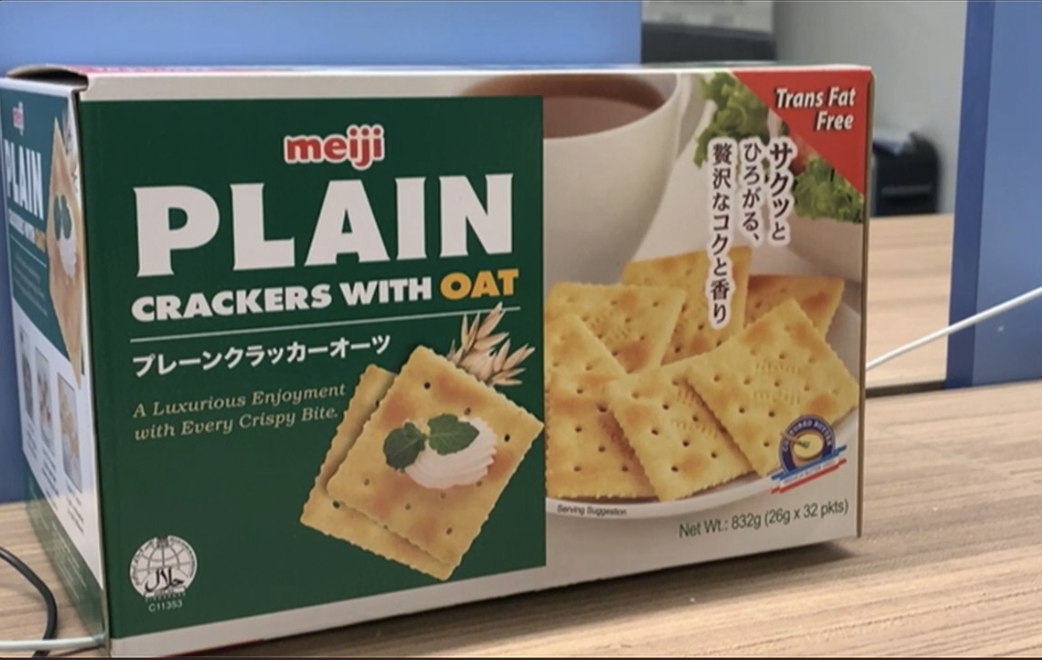crackers_850g: (106, 82, 863, 605)
